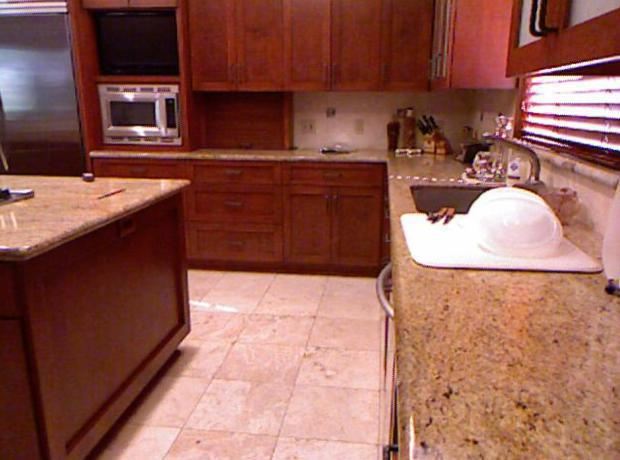Lavaplatos: (408, 119, 547, 224)
